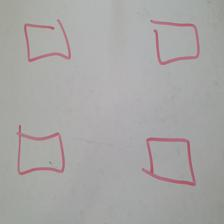process: (144, 137, 197, 186), (16, 124, 65, 175), (151, 19, 200, 65), (24, 19, 72, 61)
